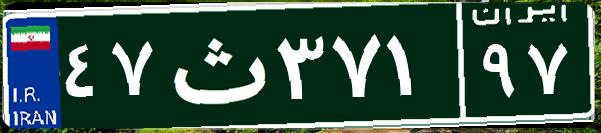1: (385, 28, 445, 110)
3: (273, 28, 330, 110)
4: (57, 26, 110, 107)
7: (330, 28, 385, 110), (110, 28, 158, 105), (525, 38, 570, 115)
9: (475, 38, 525, 113)
ث: (158, 15, 273, 115)
